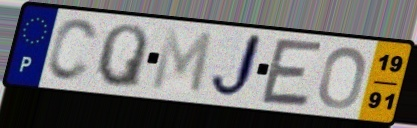C: (44, 16, 101, 85)
E: (257, 36, 327, 110)
J: (207, 31, 266, 103)
M: (148, 26, 216, 97)
O: (316, 44, 369, 111)
Q: (93, 22, 151, 92)
